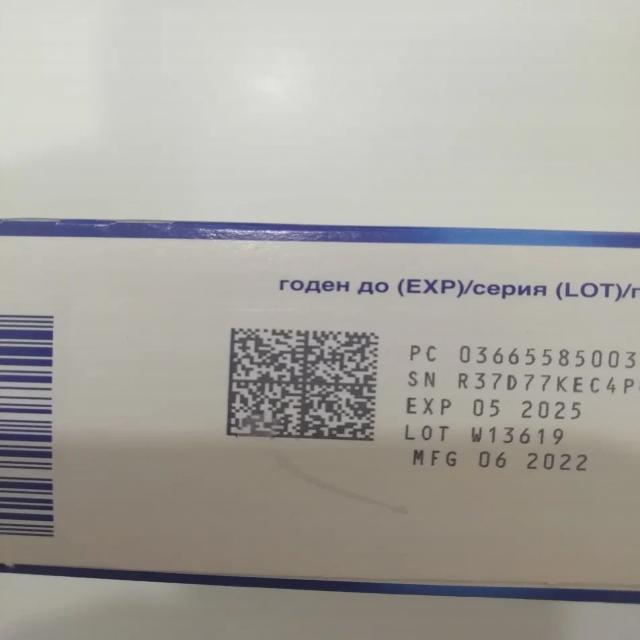datamatrix: (225, 325, 383, 446)
